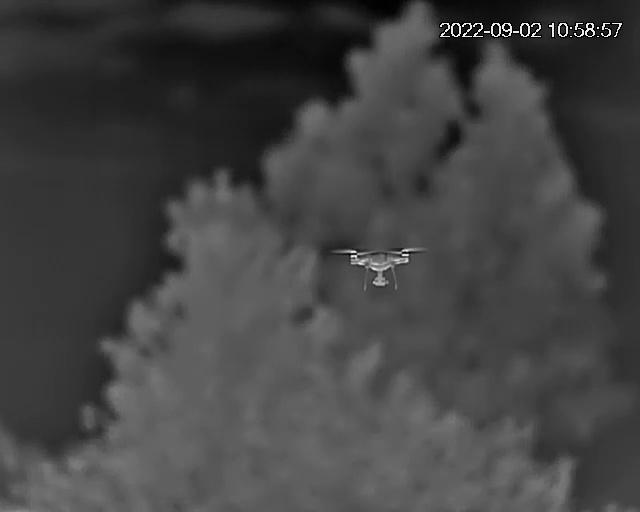DJI-Phantom: (336, 248, 426, 291)
